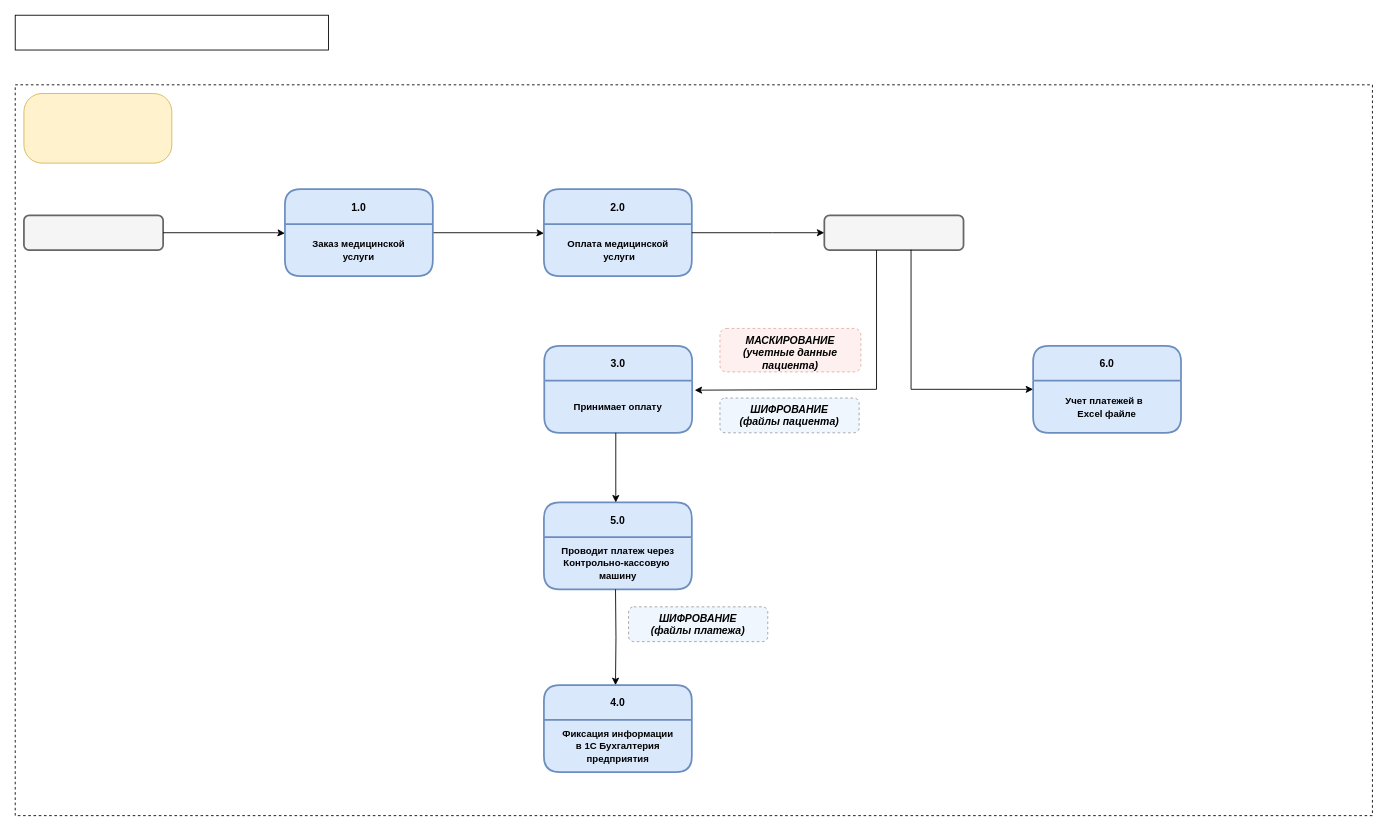
Some shapes in this 1388 by 831 pixel diagram are drawn without their labels. The centre of each missing label's shape, as x and y in pixels:
"DFD-2 Оплата за медецинские услуги (as-is)" goes at point 97,128.
"Кассир" goes at point 893,232.
"Медикаменте. Data Flow Diagram (as is)" goes at point 171,32.
"Пациент" goes at point 93,232.
